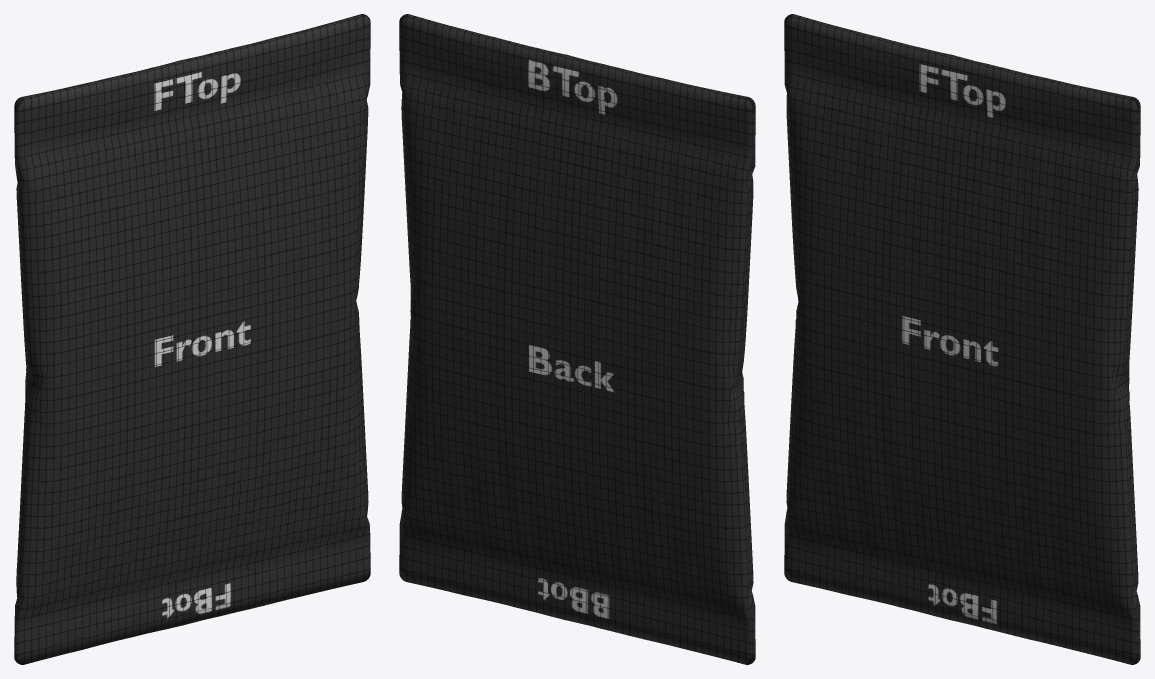
File: booster.glb
3 views of the same model, side by side, from view 1: azimuth 30°, elevation 25°; view 2: azimuth 150°, elevation 25°; view 3: azimuth 330°, elevation 25° (orthographic).
Parts seen in each view (by area): view 1: Booster Pack; view 2: Booster Pack; view 3: Booster Pack.
Boxes of the visible parts, x1,y1,x2,y2 form: Booster Pack: [14, 14, 370, 664]; Booster Pack: [399, 14, 755, 664]; Booster Pack: [784, 14, 1140, 664].
Size of the model in its own units: 0.9183 by 1.4 by 0.1029.
Materials: 1 (1 with a texture image).
